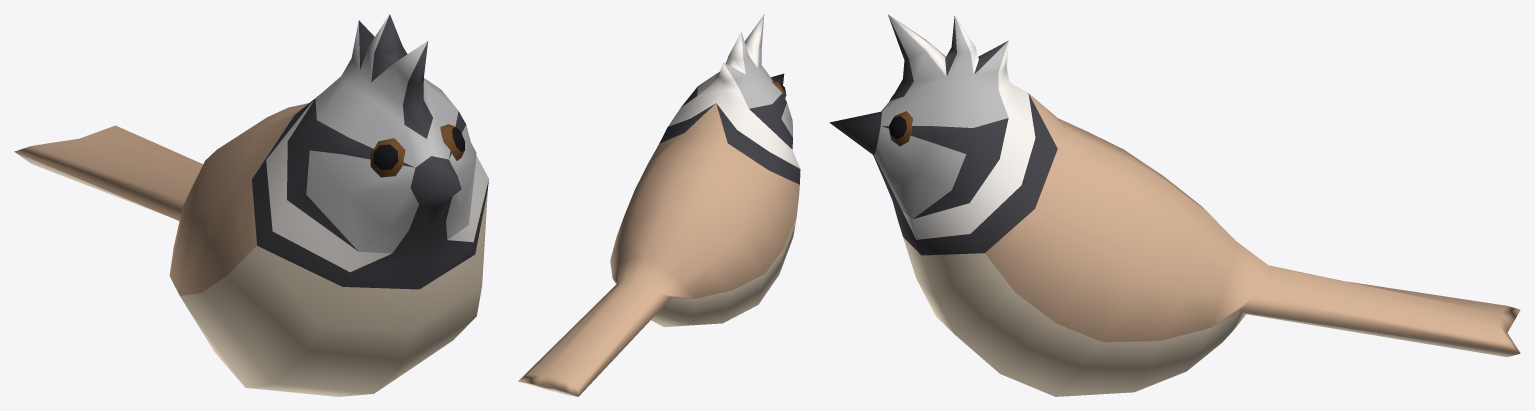
File: Crested_Tit.fbx
3 views of the same model, side by side, from view 1: azimuth 30°, elevation 25°; view 2: azimuth 150°, elevation 25°; view 3: azimuth 270°, elevation 25° (orthographic). The views are drawn at different scales.
Visible parts, largest first — view 1: Crested_Tit; view 2: Crested_Tit; view 3: Crested_Tit.
Part boxes in pixels (left/top/right/bottom): Crested_Tit: left=14, top=14, right=488, bottom=396; Crested_Tit: left=518, top=14, right=800, bottom=396; Crested_Tit: left=829, top=14, right=1520, bottom=396.
Bounding box in the file's own units: 15.69 × 24.38 × 41.48.
Materials: 1 (1 with a texture image).
